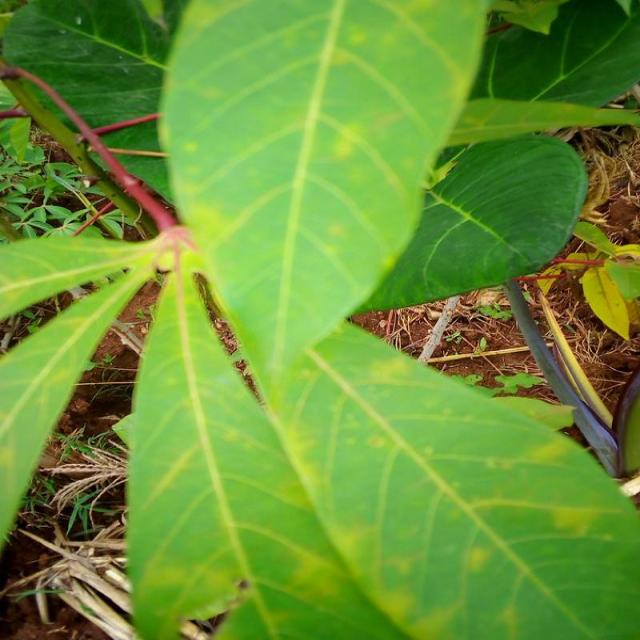cassava leaf: (1, 0, 638, 638), (156, 0, 490, 412), (347, 130, 589, 314)
